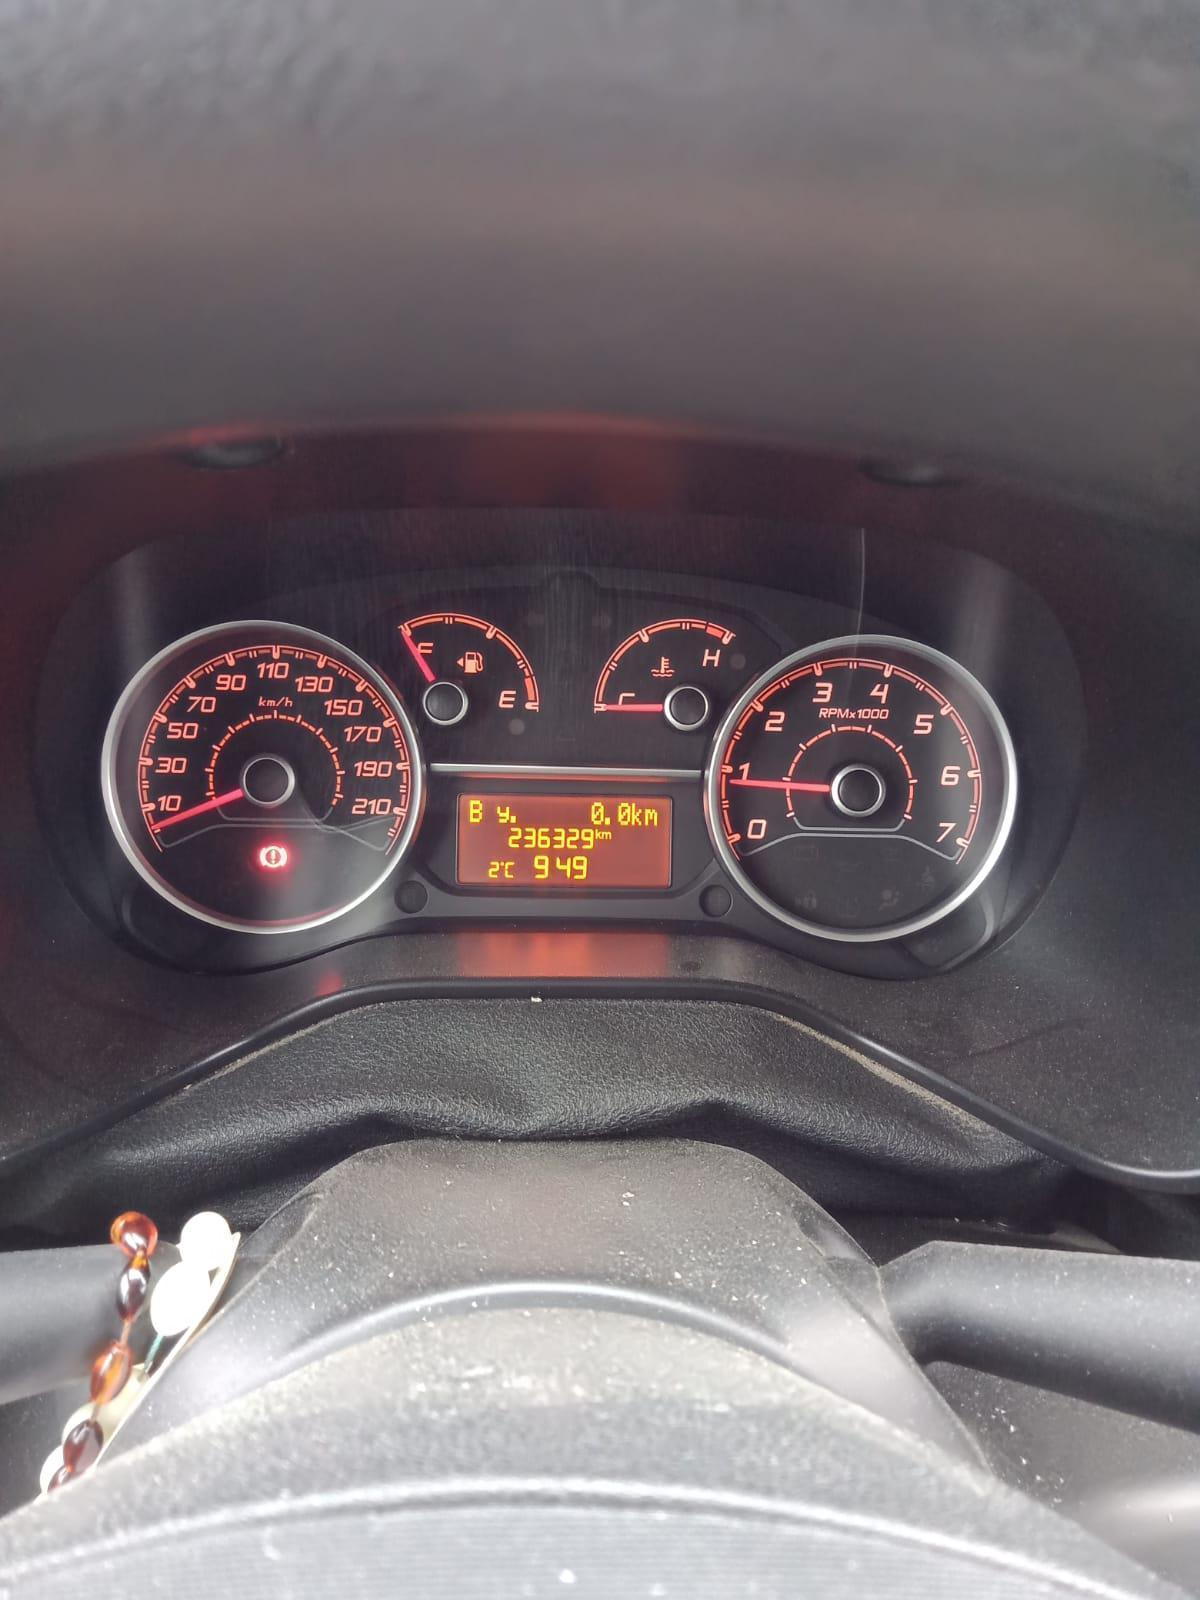,: (603, 816, 610, 825), (509, 815, 517, 823)
0: (616, 801, 632, 826), (590, 801, 604, 825)
2: (507, 826, 522, 848), (565, 826, 579, 849), (487, 860, 499, 878)
3: (552, 826, 566, 849), (523, 826, 536, 848)
4: (555, 855, 571, 879)
6: (537, 826, 551, 849)
9: (532, 854, 550, 878), (571, 855, 587, 879), (580, 828, 594, 849)
X: (468, 799, 483, 823), (630, 803, 643, 826), (643, 808, 658, 826), (495, 805, 509, 823), (503, 860, 516, 878), (594, 828, 603, 839), (601, 831, 611, 839)
odometer: (453, 790, 676, 889)
